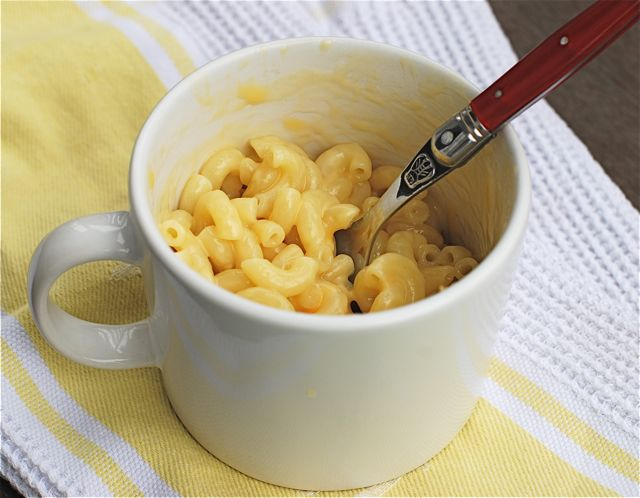macncheese: (165, 125, 480, 319)
